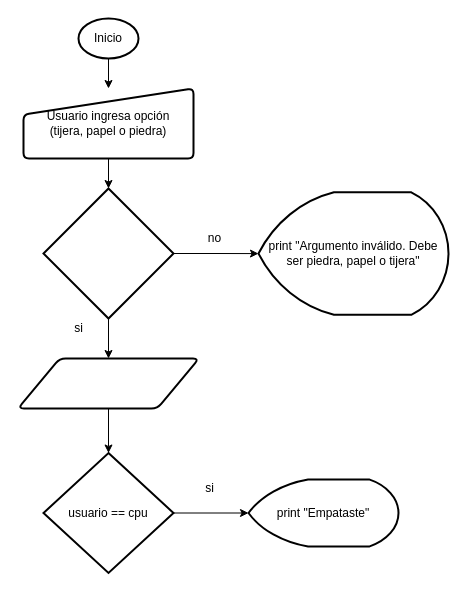
The diagram is 467 pixels wide and 591 high, and some of its shapes have lost their labels. Each missing label, with the centre of its shape:
"CPU elige opción (tijera, papel, piedra)" belongs at (x=108, y=383).
"usuario == tijera || piedra || papel" belongs at (x=108, y=253).
